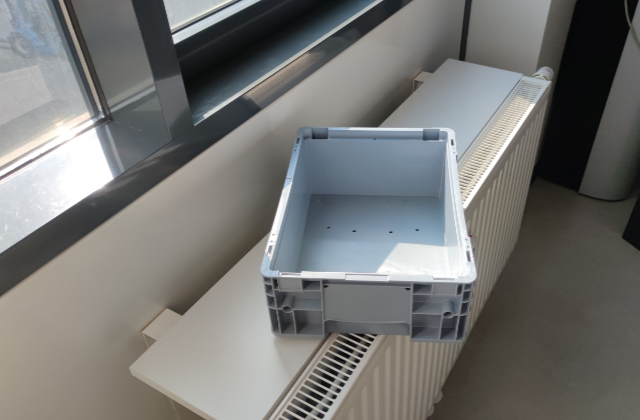Box: (260, 124, 479, 343)
